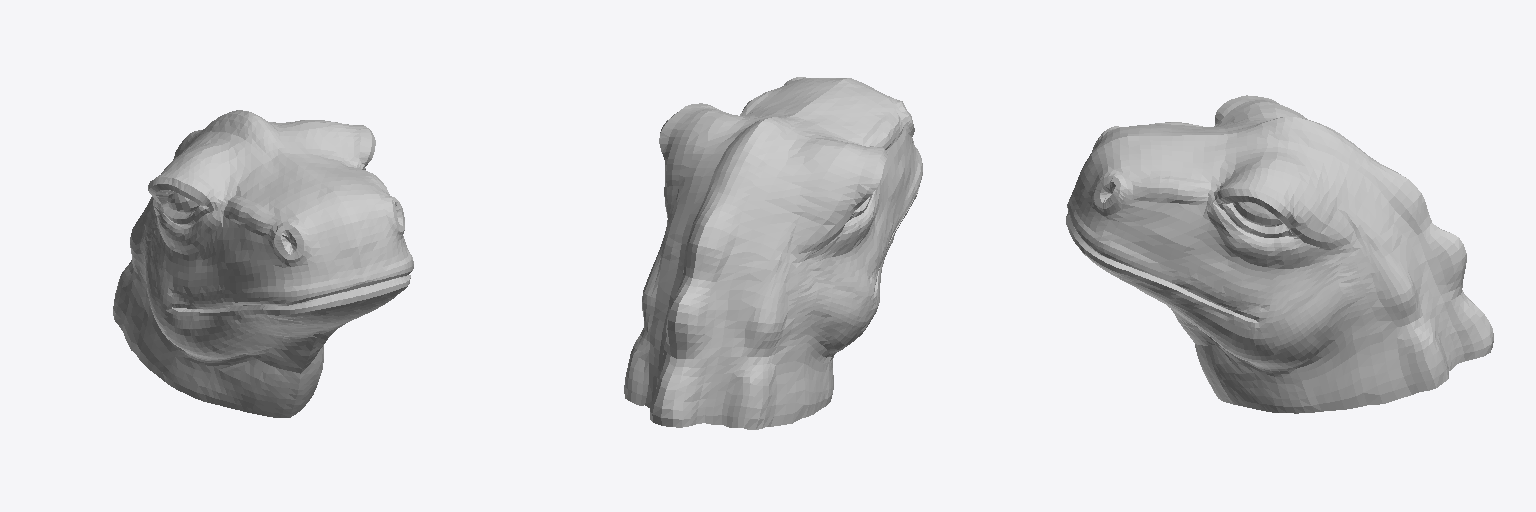
File: JURASSIC.obj
The picture shows the model from 3 angles: view 1: azimuth 30°, elevation 25°; view 2: azimuth 150°, elevation 25°; view 3: azimuth 270°, elevation 25°; orthographic projection.
Size of the model in its own units: 7.32 by 8.97 by 12.51.